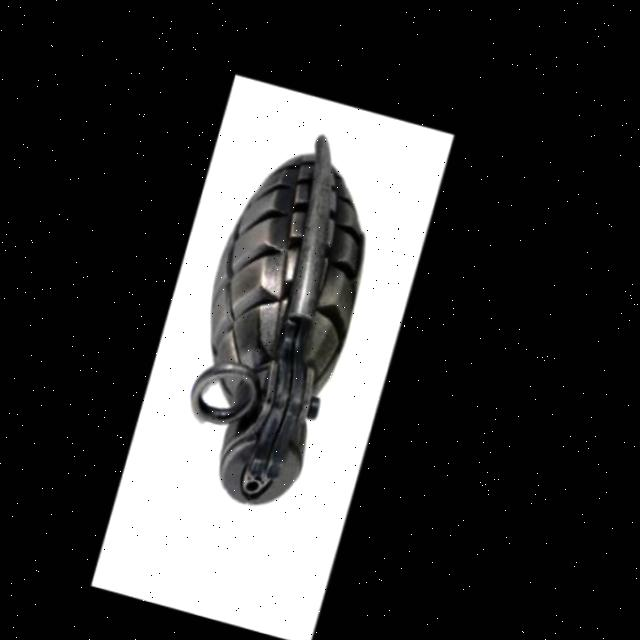grenade: (147, 121, 410, 538)
